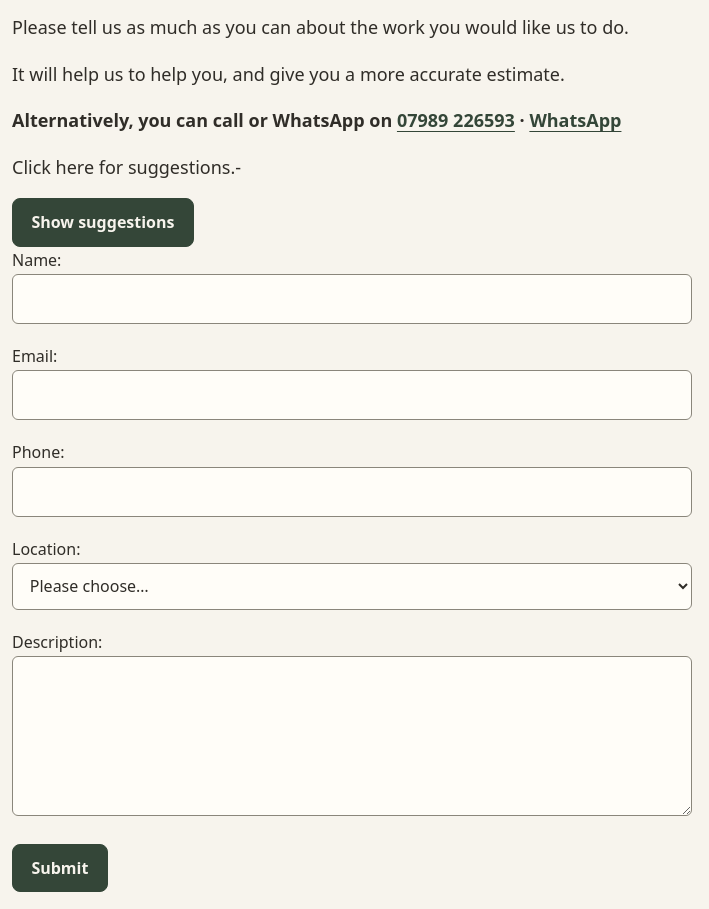
Test: enquiry still submits the existing EmailJS fields and shows confirmation
In the field labelled "Name:": (352, 299) [12,274,692,324], type "Test Customer"
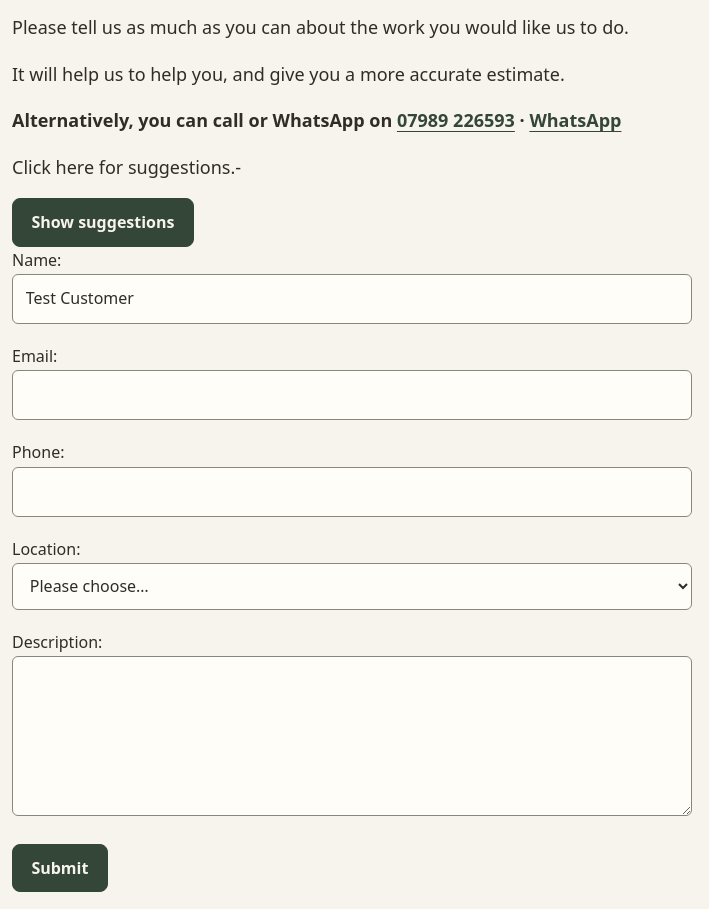
In the field labelled "Email:": (352, 395) [12,370,692,420], type "test@example.test"
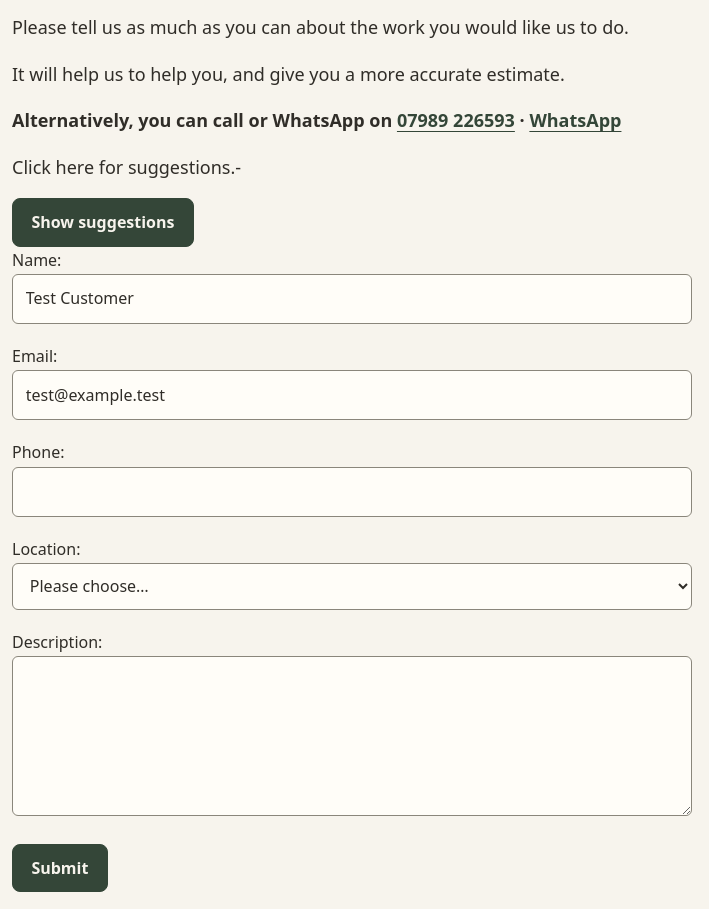
In the field labelled "Phone:": (352, 492) [12,467,692,517], type "01234567890"
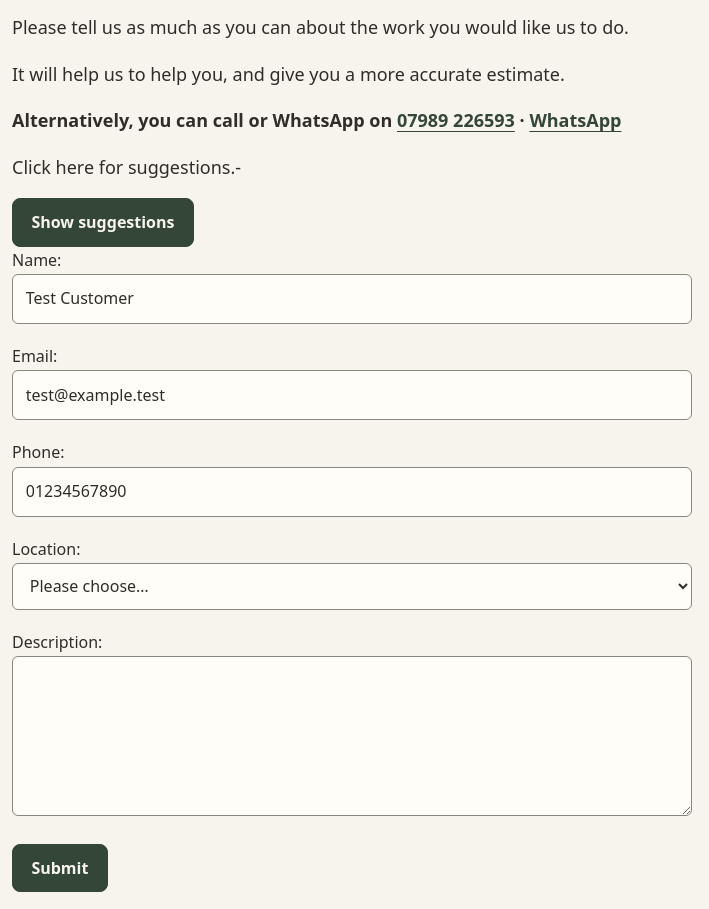
Select "Glasgow - West" in the dropdown labelled "Location:": (352, 586) [12,563,692,610]
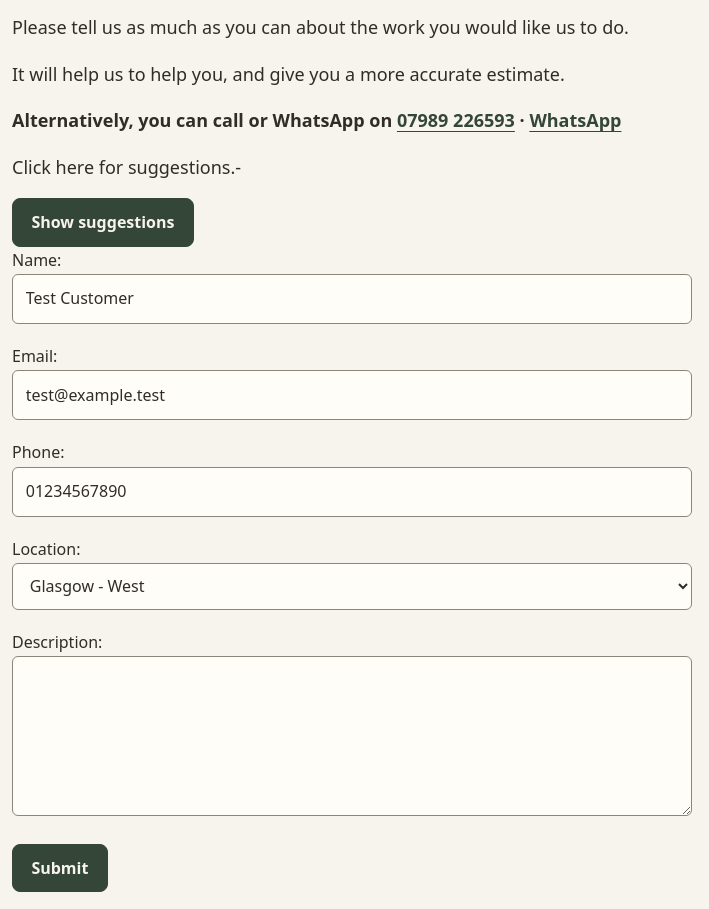
In the text box labelled "Description:": (352, 736) [12,656,692,816], type "Test enquiry"
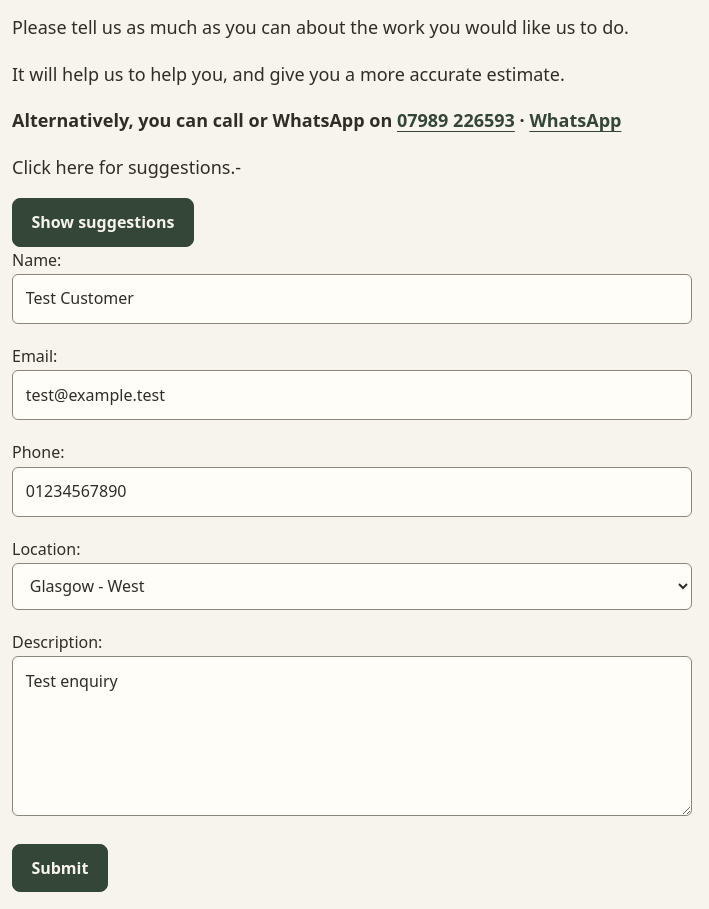
Click the button "Submit": (60, 868) [12,844,108,892]
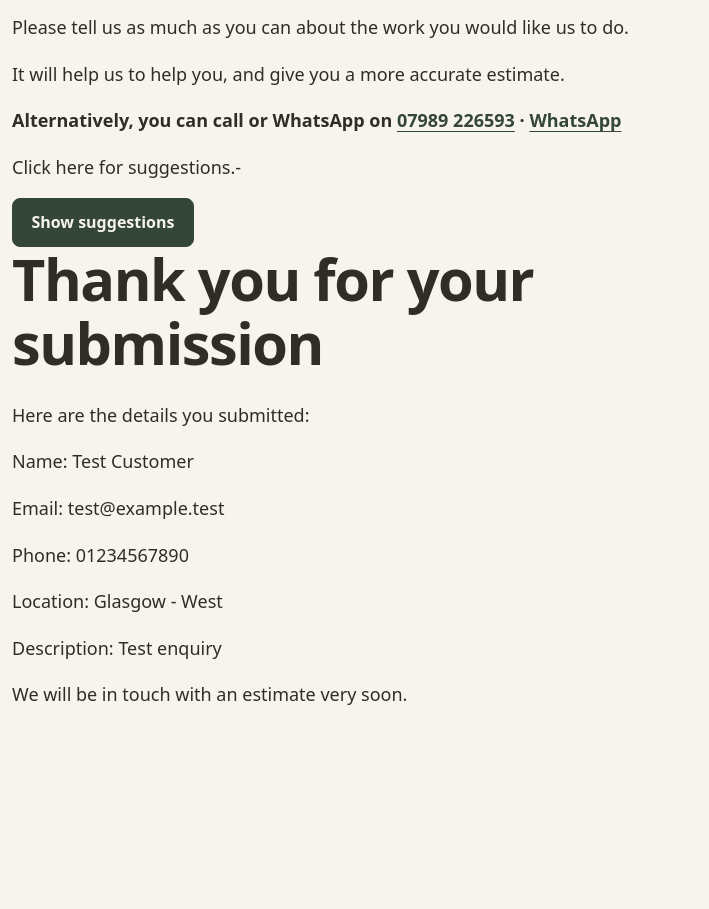
Expected: the heading "Thank you for your submission" is shown, [12,239,533,382]
